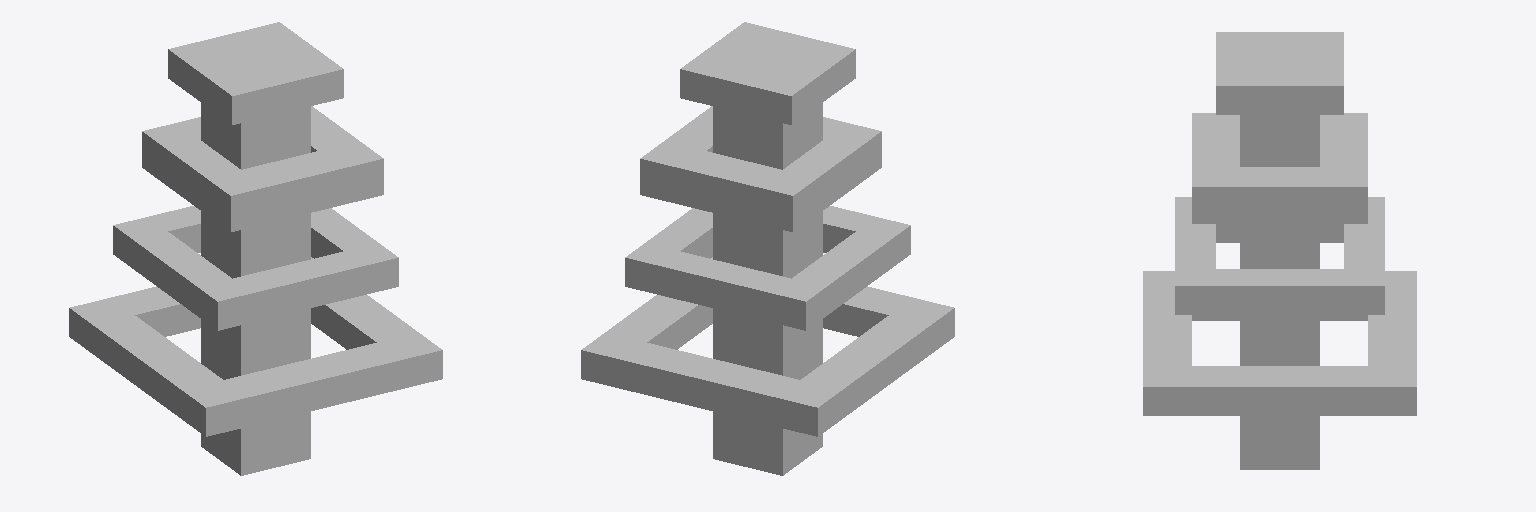
File: tree.obj
The picture shows the model from 3 angles: view 1: azimuth 30°, elevation 25°; view 2: azimuth 150°, elevation 25°; view 3: azimuth 270°, elevation 25°; orthographic projection.
Visible parts, largest first — view 1: tree; view 2: tree; view 3: tree.
Boxes of the visible parts, x1,y1,x2,y2 form: tree: [69, 22, 442, 475]; tree: [581, 22, 954, 475]; tree: [1143, 32, 1416, 469].
Size of the model in its own units: 34 by 54 by 34.